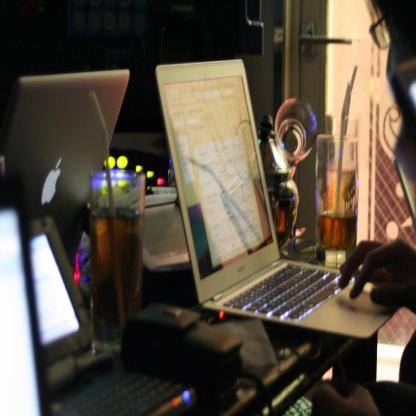board: (155, 59, 401, 339), (0, 64, 130, 286)
